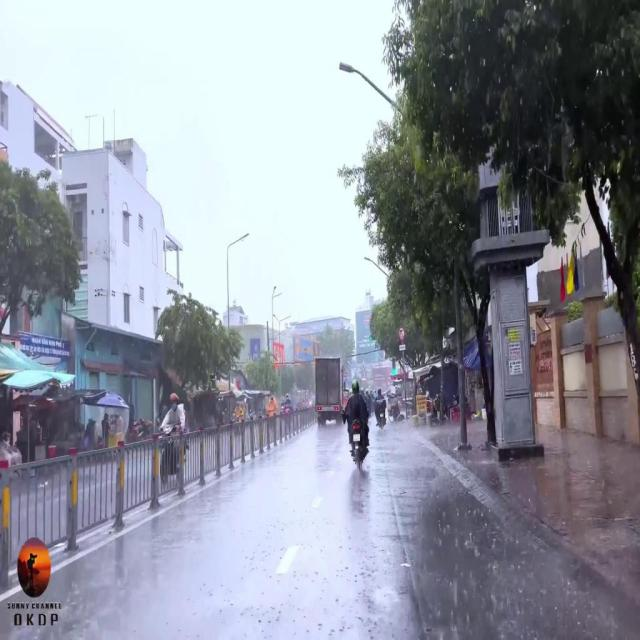cam_re_phai: (399, 326, 405, 342)
khac: (400, 345, 406, 351)
